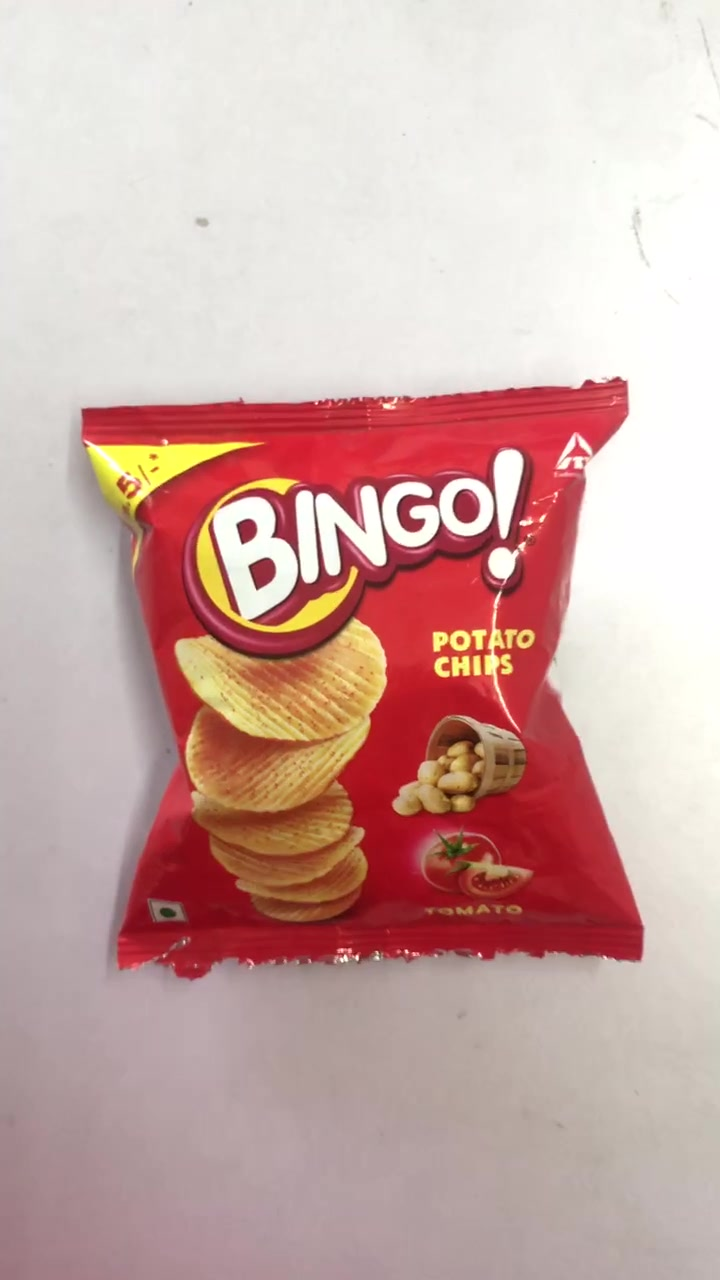Bingo: (89, 406, 639, 946)
